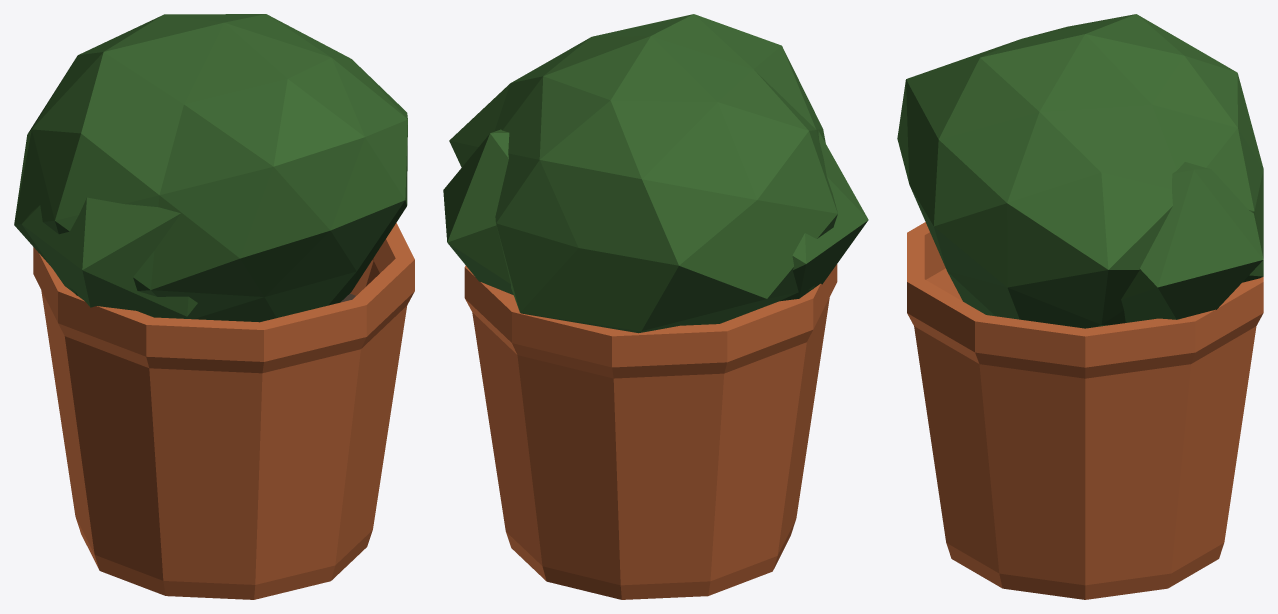
The model's file is SM_Street_Pot_Round_No4_Foliage_01.gltf.
The picture shows the model from 3 angles, left to right: view 1: azimuth 30°, elevation 25°; view 2: azimuth 150°, elevation 25°; view 3: azimuth 270°, elevation 25°; orthographic projection. The views are drawn at different scales.
Parts seen in each view (by area): view 1: SM_Street_Pot_Round_No4_Foliage_01; view 2: SM_Street_Pot_Round_No4_Foliage_01; view 3: SM_Street_Pot_Round_No4_Foliage_01.
Boxes of the visible parts, left/top/right/bottom form: SM_Street_Pot_Round_No4_Foliage_01: left=14, top=14, right=414, bottom=599; SM_Street_Pot_Round_No4_Foliage_01: left=443, top=14, right=868, bottom=599; SM_Street_Pot_Round_No4_Foliage_01: left=897, top=14, right=1263, bottom=599.
Size of the model in its own units: 0.1363 by 0.1788 by 0.1172.
Materials: 1 (1 with a texture image).
